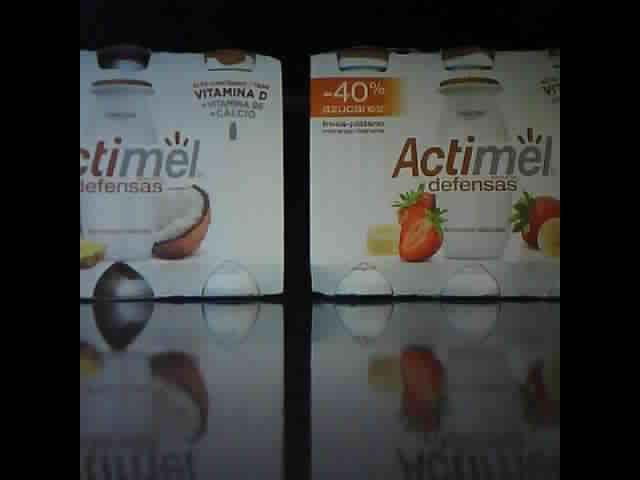actimel: (306, 44, 559, 302), (80, 44, 287, 300)
